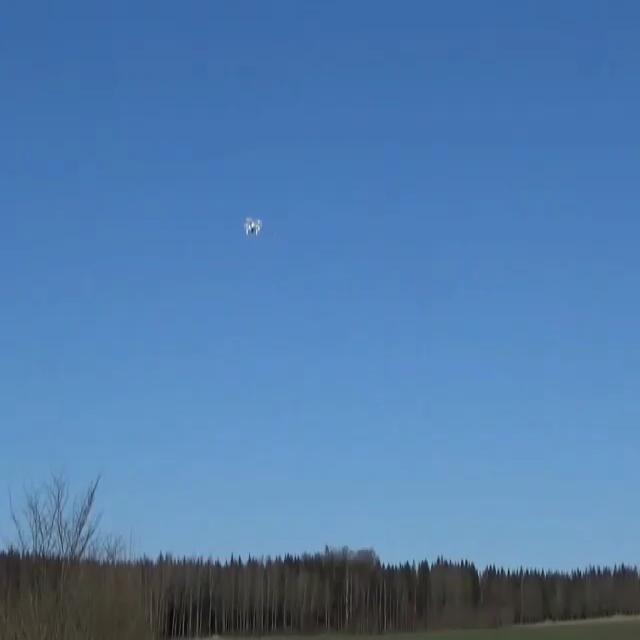Drone: (228, 208, 275, 246)
